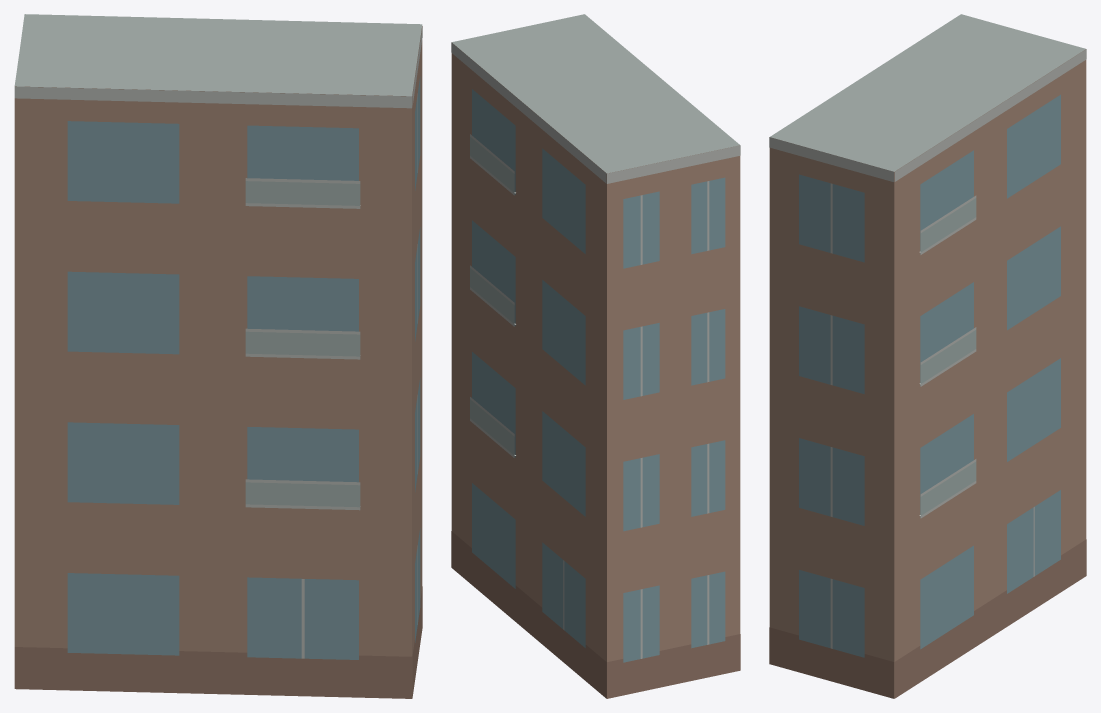
The model's file is residential-f0327a96-67e7-4ac1-93c1-f0cd9620e007.glb.
The picture shows the model from 3 angles, left to right: view 1: azimuth 30°, elevation 25°; view 2: azimuth 150°, elevation 25°; view 3: azimuth 270°, elevation 25°; orthographic projection. The views are drawn at different scales.
Parts seen in each view (by area): view 1: residential-f0327a96-67e7-4ac1-93c1-f0cd9620e007.tmp; view 2: residential-f0327a96-67e7-4ac1-93c1-f0cd9620e007.tmp; view 3: residential-f0327a96-67e7-4ac1-93c1-f0cd9620e007.tmp.
Part boxes in pixels (x1,y1,x2,y2): residential-f0327a96-67e7-4ac1-93c1-f0cd9620e007.tmp: (14,14,422,698); residential-f0327a96-67e7-4ac1-93c1-f0cd9620e007.tmp: (451,14,740,698); residential-f0327a96-67e7-4ac1-93c1-f0cd9620e007.tmp: (769,14,1086,698).
Bounding box in the file's own units: 7.84 × 12.2 × 6.66.
